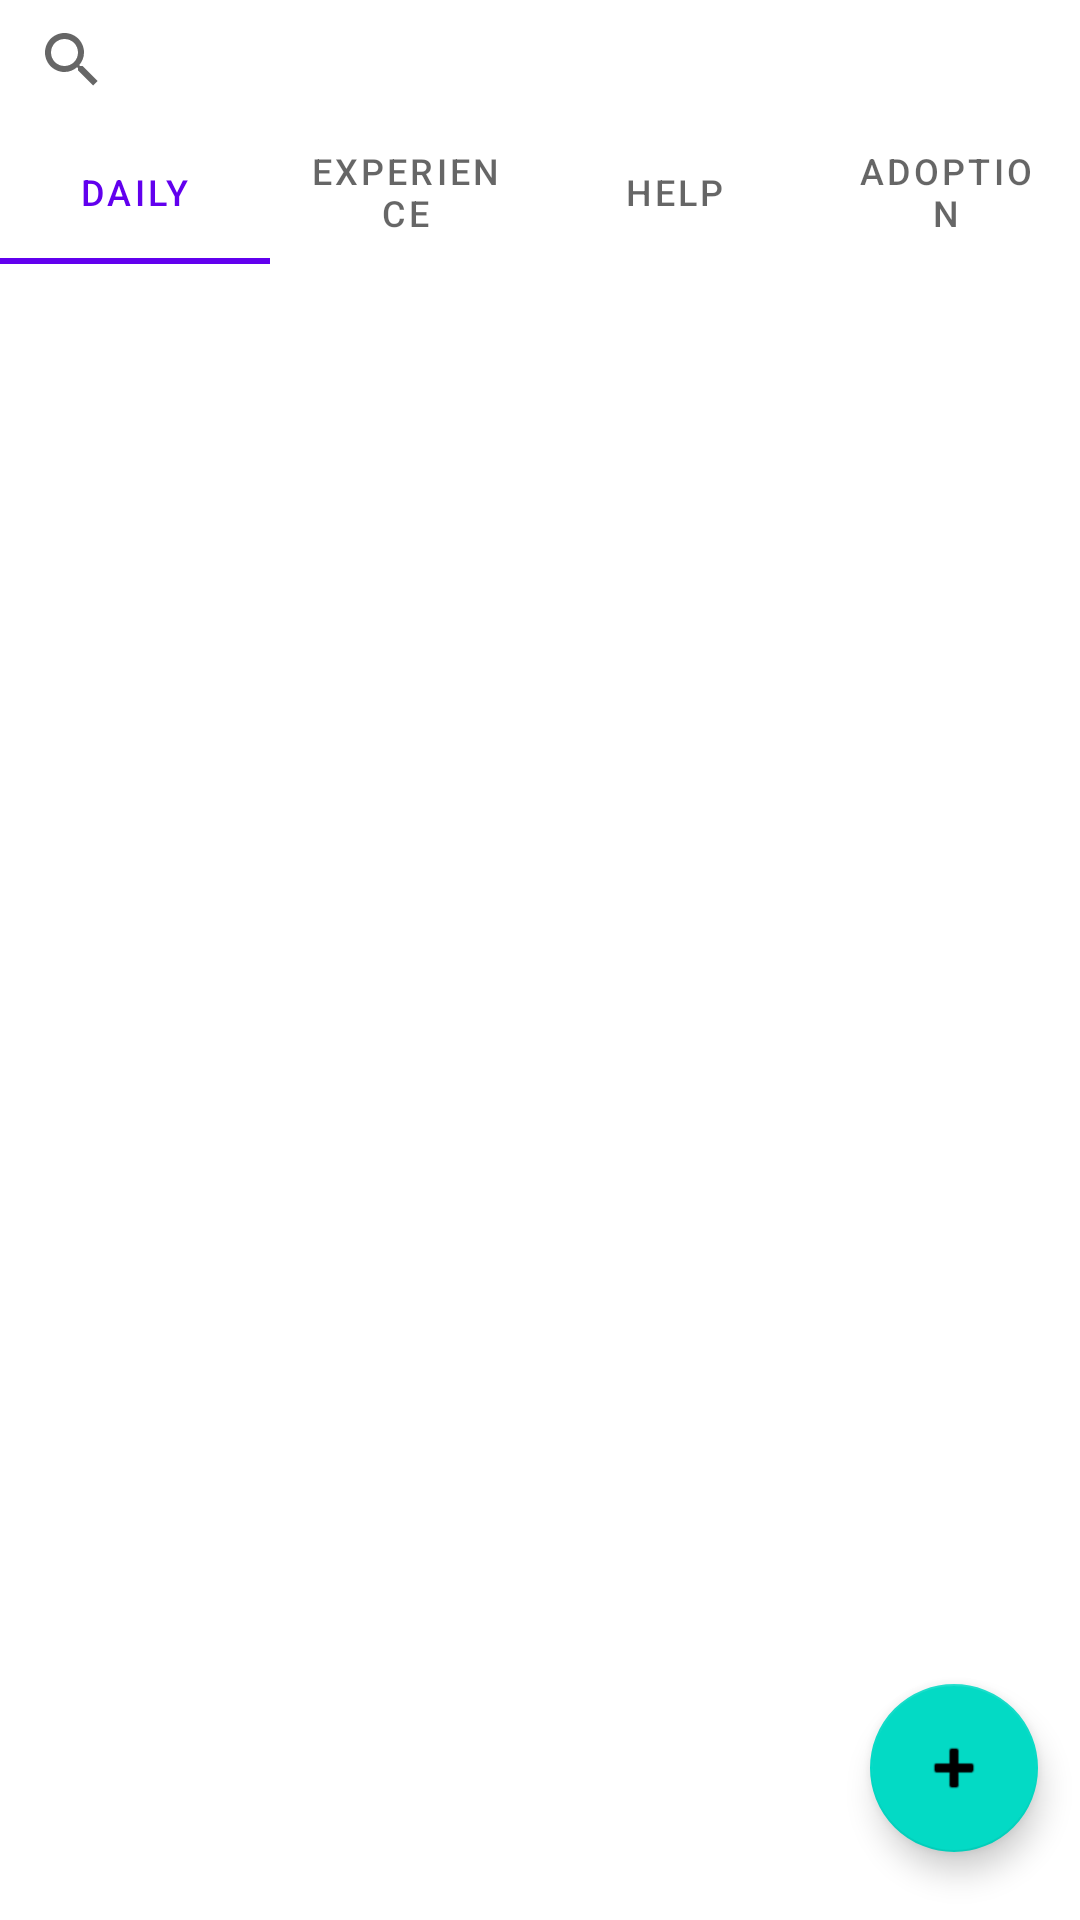

Icons on this 1080w x 1920h Android screen, each with the point to tap as point (x, y):
add: point (954, 1768)
